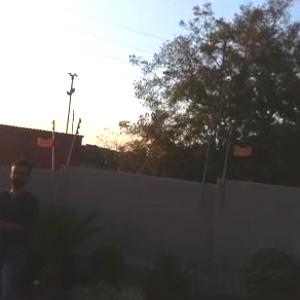follow: (0, 151, 44, 299)
